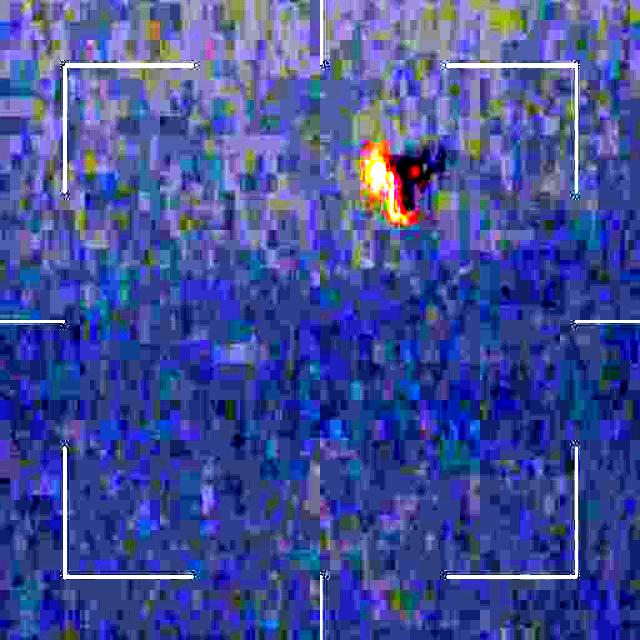bird: (364, 156, 450, 240)
